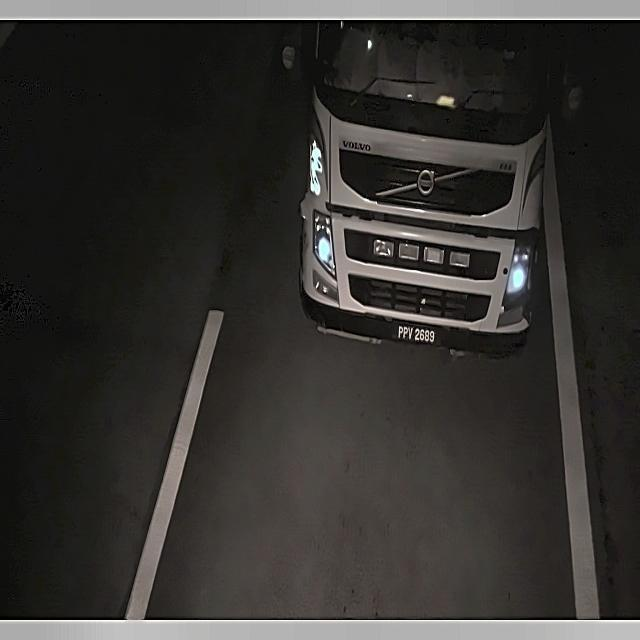car: (390, 320, 441, 349)
